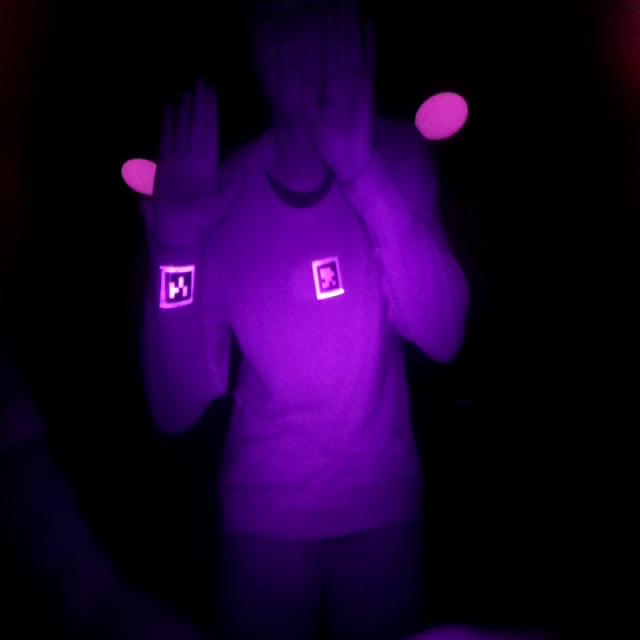Apriltags: (160, 266, 196, 308), (311, 256, 344, 300)
